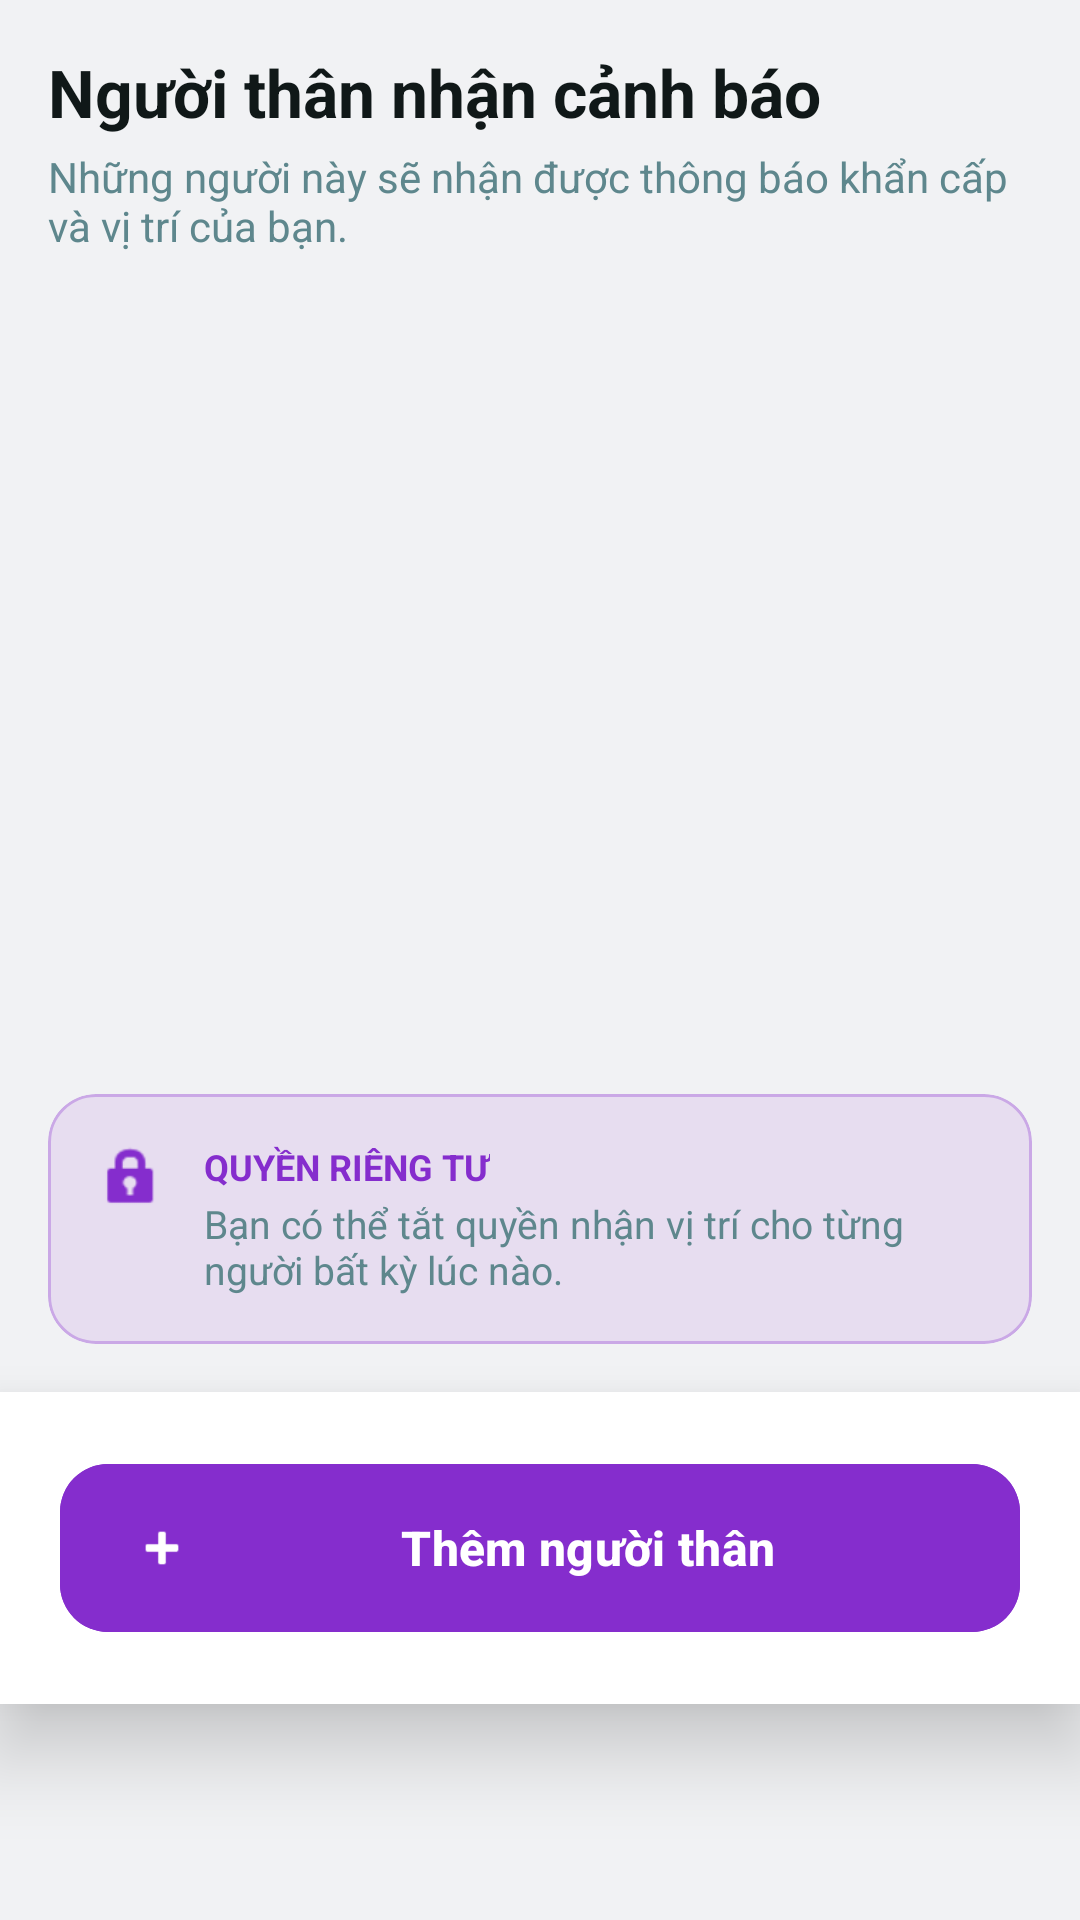

Named icons in this screenshot (1080×1920) and their centers, [x,y]:
lock idle: [130,1175]
